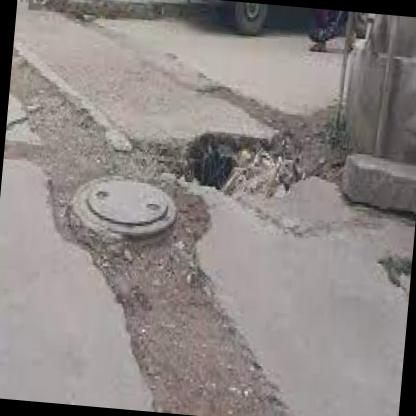manholes: (72, 163, 181, 256)
